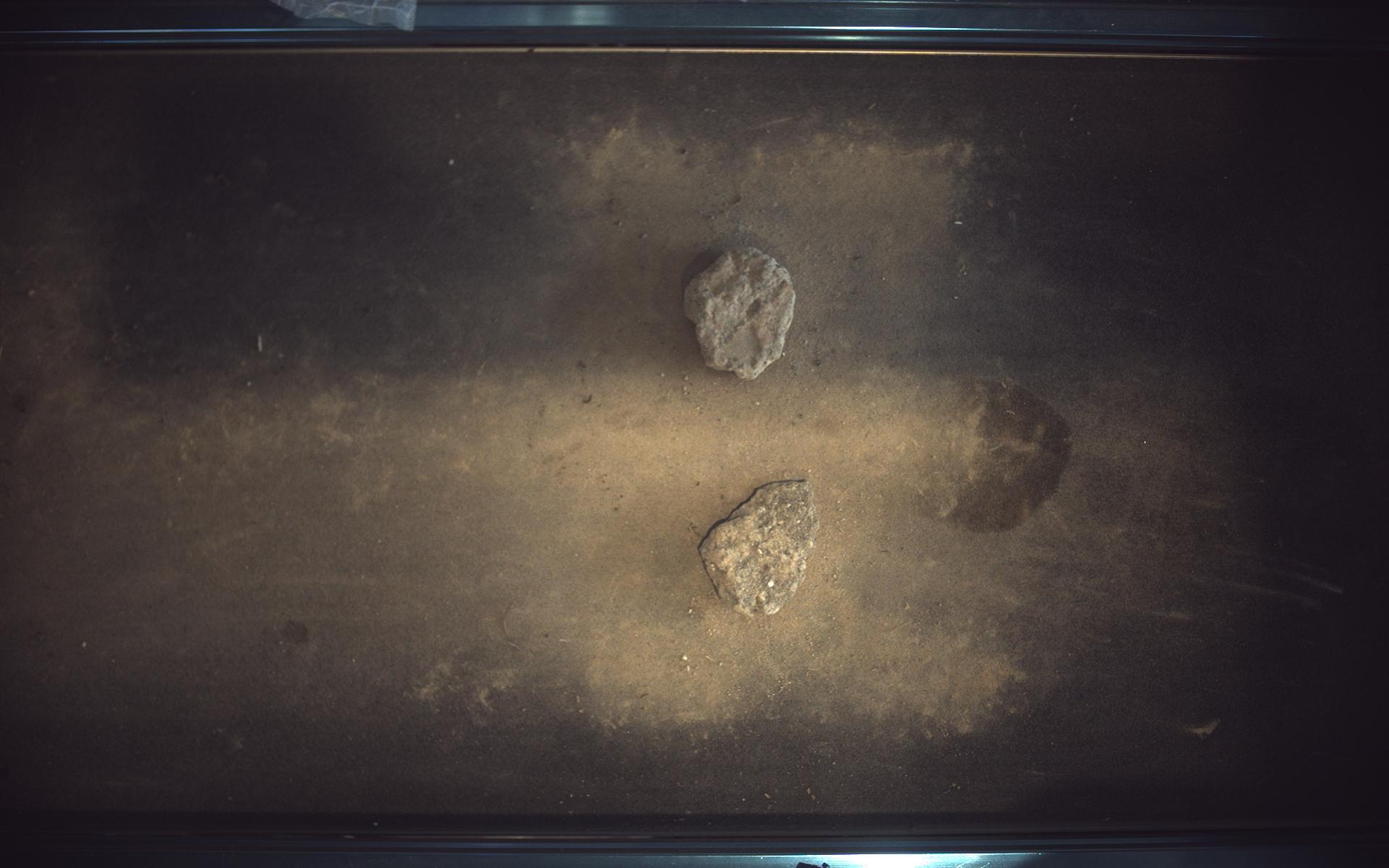stone: (700, 481, 821, 617), (684, 247, 797, 380)
